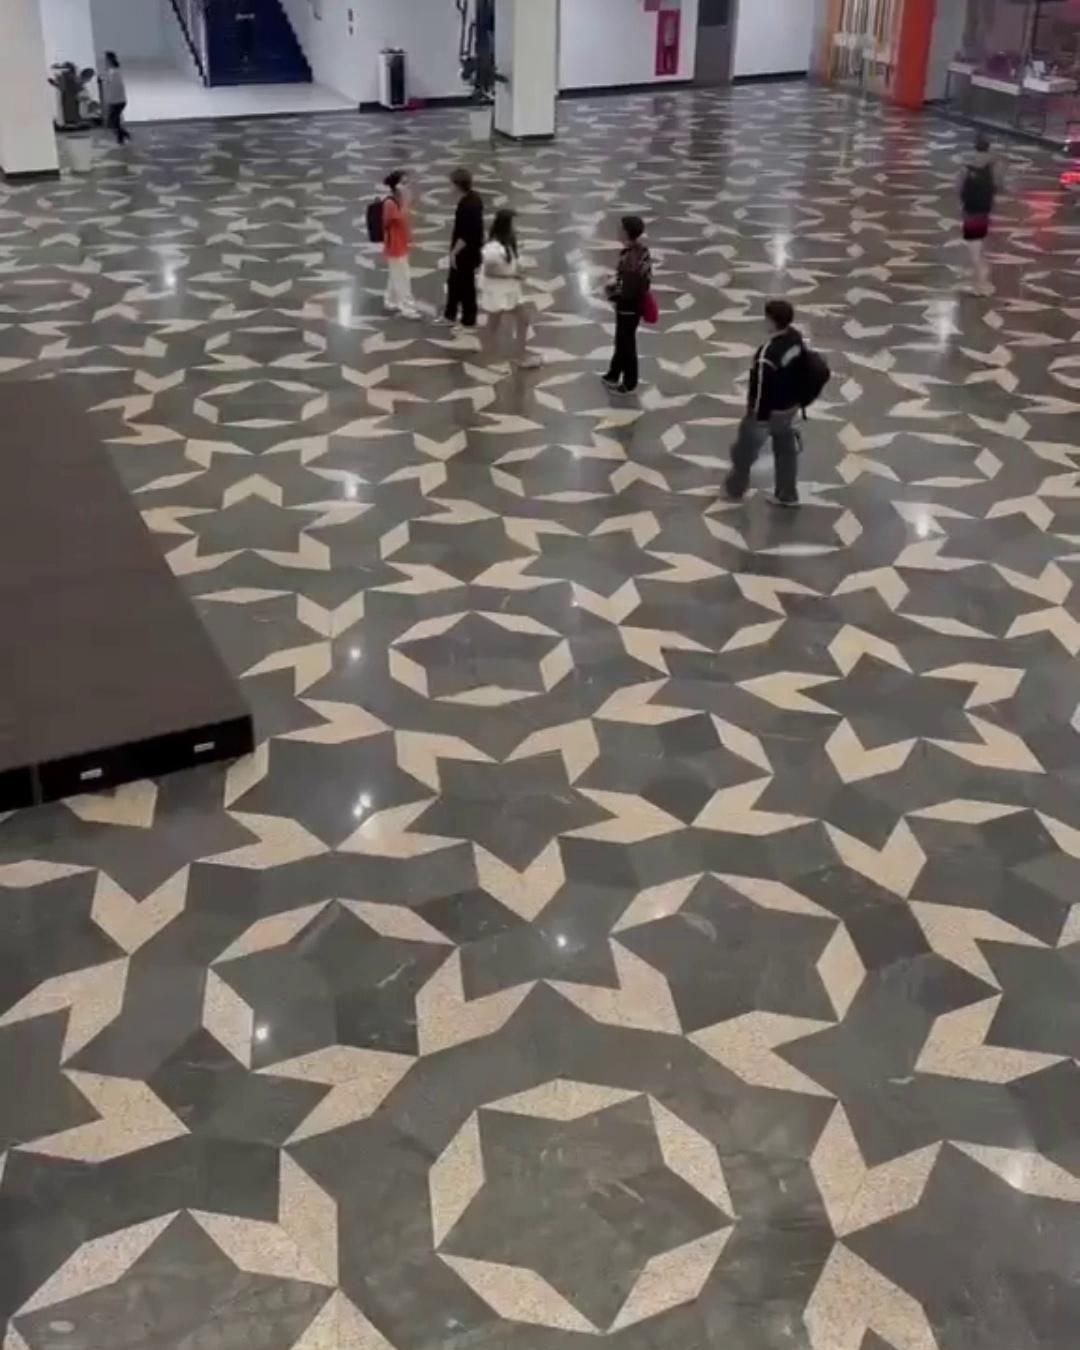your_class: (739, 283, 824, 514), (590, 185, 672, 408), (343, 143, 430, 339), (460, 183, 530, 376), (80, 41, 156, 193), (950, 116, 1004, 323), (440, 153, 488, 345), (227, 6, 272, 87)
